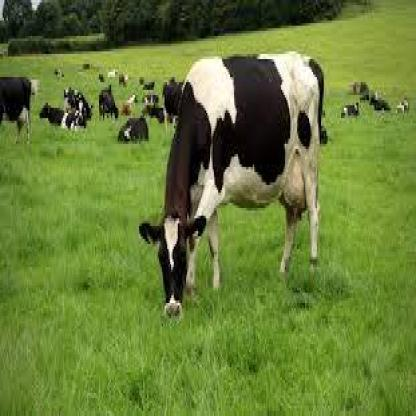cow: (138, 53, 328, 322), (0, 74, 32, 146), (163, 77, 183, 134), (64, 86, 93, 122), (117, 117, 149, 145), (99, 85, 119, 123), (39, 102, 64, 127), (62, 109, 86, 132), (370, 92, 391, 113), (141, 106, 165, 124), (341, 100, 359, 121), (121, 92, 136, 116), (396, 94, 409, 114), (141, 94, 160, 107), (31, 77, 39, 103), (118, 70, 129, 88), (106, 68, 118, 81), (143, 78, 155, 91), (98, 72, 105, 82), (82, 62, 91, 69)
